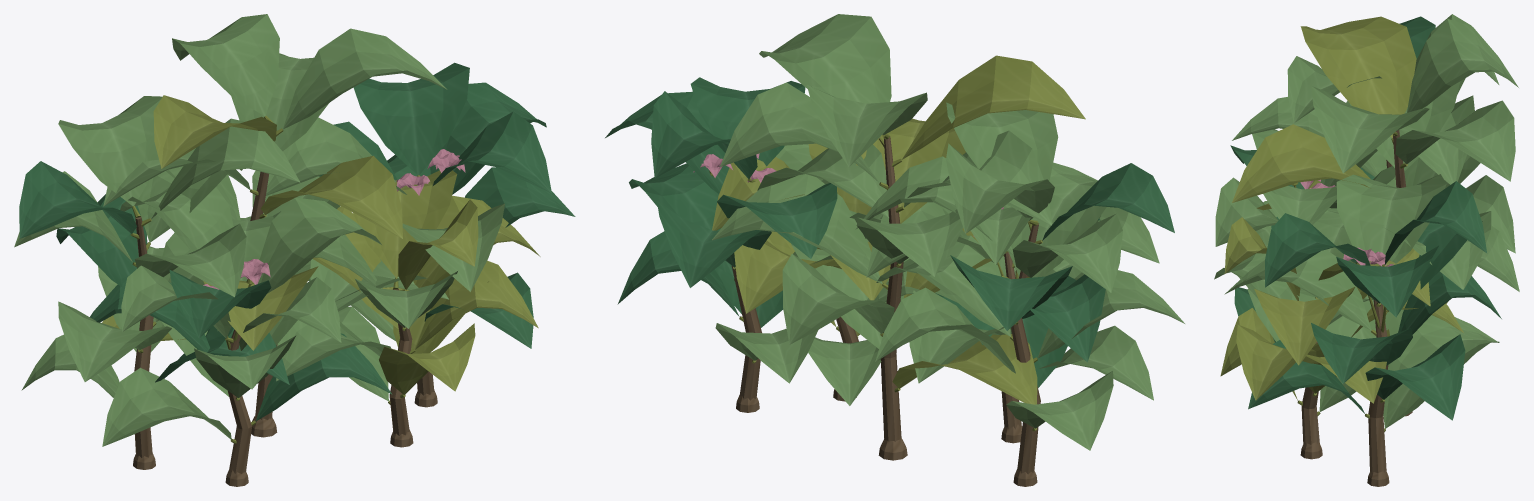
File: AST-BOT-002_pool_loggia_mass_05.glb
The picture shows the model from 3 angles, left to right: view 1: azimuth 30°, elevation 25°; view 2: azimuth 150°, elevation 25°; view 3: azimuth 270°, elevation 25°; orthographic projection. The views are drawn at different scales.
Parts seen in each view (by area): view 1: AST-BOT-002_pool_loggia_mass_05; view 2: AST-BOT-002_pool_loggia_mass_05; view 3: AST-BOT-002_pool_loggia_mass_05.
Boxes of the visible parts, left/top/right/bottom form: AST-BOT-002_pool_loggia_mass_05: left=14, top=14, right=575, bottom=486; AST-BOT-002_pool_loggia_mass_05: left=605, top=14, right=1184, bottom=486; AST-BOT-002_pool_loggia_mass_05: left=1214, top=14, right=1519, bottom=486.
Bounding box in the file's own units: 2.28 × 1.54 × 1.17.
Materials: 5 (5 with a texture image).
